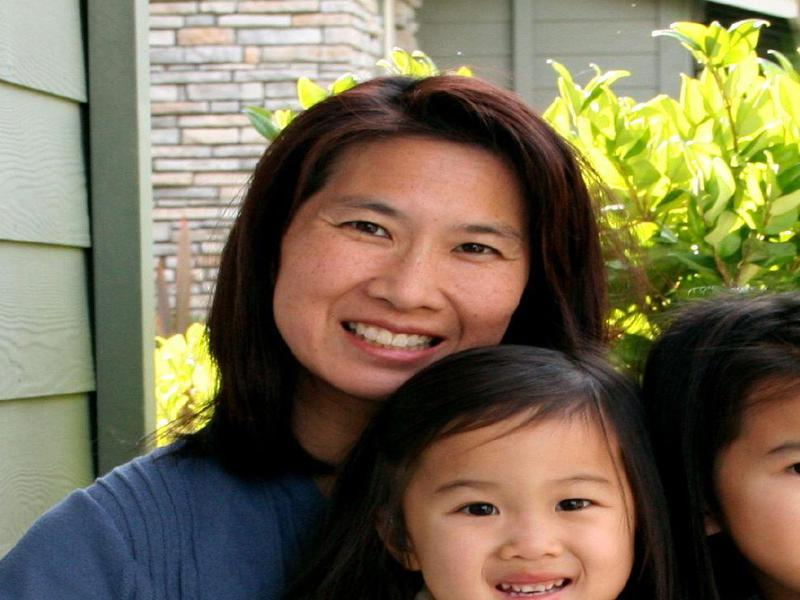person: (1, 69, 673, 600), (308, 345, 683, 600), (639, 269, 800, 597)
